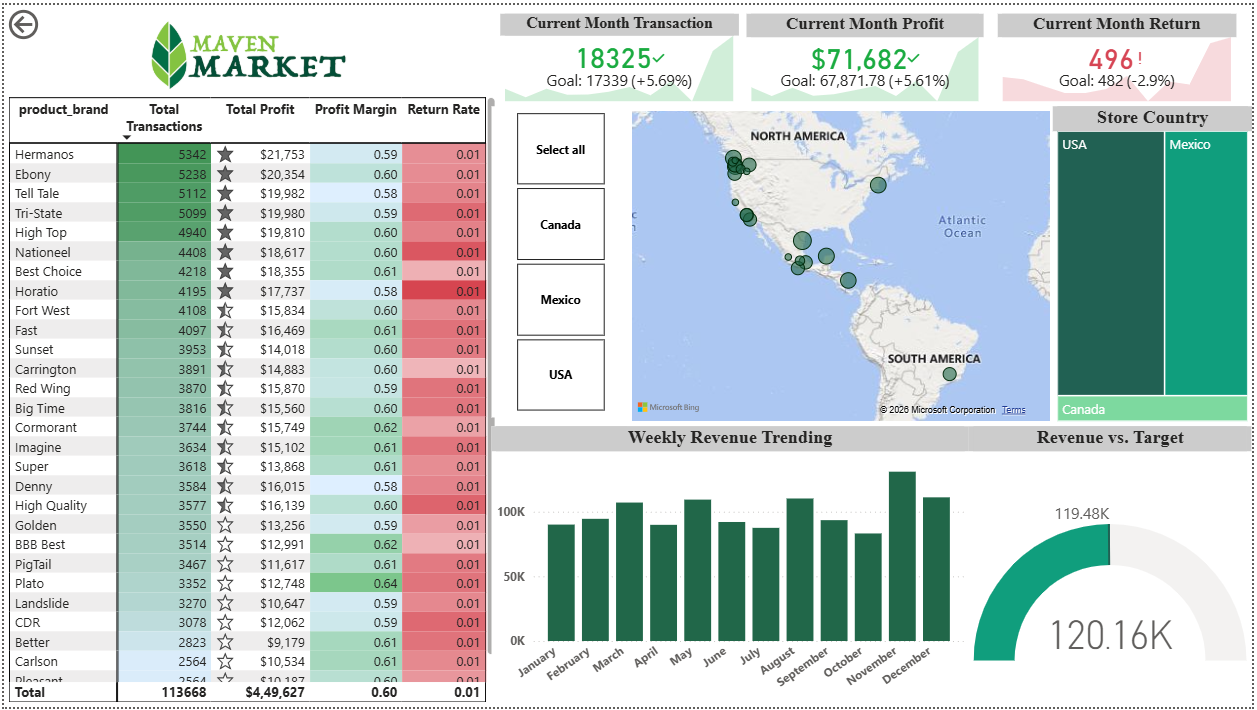

This screenshot's page, from the dashboard's own definition file:
{"tool":"powerbi","page":{"name":"Dashboard","canvas":[1280,720],"ordinal":5},"visuals":[{"type":"pivotTable","fields":{"Rows":["MavenMarket_Products.product_brand"],"Values":["MavenMarket Transactions.Total Transactions","MavenMarket Transactions.Total Profit","MavenMarket Transactions.Profit Margin","MavenMarket Transactions.Return Rate"]},"box":[0,89.7,509,630.8],"z":0},{"type":"kpi","title":"Current Month Transaction","fields":{"Indicator":["MavenMarket Transactions.Total Transactions"],"TrendLine":["MavenMarket_Calendar.Start of Month"],"Goal":["MavenMarket Transactions.Last Month Transactions"]},"box":[508.6,8.6,244.4,95.1],"z":1000},{"type":"kpi","title":"Current Month Profit","fields":{"Indicator":["MavenMarket Transactions.Total Profit"],"Goal":["MavenMarket Transactions.Last Month Profit"],"TrendLine":["MavenMarket_Calendar.Start of Month"]},"box":[761.7,8.6,243.2,95.1],"z":2000},{"type":"kpi","title":"Current Month Return","fields":{"Goal":["MavenMarket Transactions.Last Month Returns"],"TrendLine":["MavenMarket_Calendar.Start of Month"],"Indicator":["MavenMarket_Returns_1997-1998.Total Returns"]},"box":[1019.8,8.6,244.4,95.1],"z":3000},{"type":"map","fields":{"Category":["MavenMarket_Stores.store_city"],"Size":["MavenMarket Transactions.Total Transactions"]},"box":[639.5,103.7,438.3,328.4],"z":4000},{"type":"treemap","title":"Store Country","fields":{"Values":["MavenMarket Transactions.Total Transactions"],"Group":["MavenMarket_Stores.store_country","MavenMarket_Stores.store_city","MavenMarket_Stores.store_state"]},"box":[1075.6,103.8,205.1,328.2],"z":5000},{"type":"image","box":[0,11.1,500,79],"z":6000},{"type":"slicer","fields":{"Values":["MavenMarket_Stores.store_country"]},"box":[500,103.8,139.7,319.2],"z":7000},{"type":"actionButton","box":[0,0,100,40],"z":8000},{"type":"clusteredColumnChart","title":"Weekly Revenue Trending","fields":{"Y":["MavenMarket Transactions.Total Revenue"],"Category":["MavenMarket_Calendar.Start of Week.Variation.Date Hierarchy.Month"]},"box":[500,432.1,489.7,288.5],"z":9000},{"type":"gauge","title":"Revenue vs. Target","fields":{"Y":["MavenMarket Transactions.Total Revenue"],"TargetValue":["MavenMarket Transactions.Revenue Target"]},"box":[989.7,432.1,289.7,288.5],"z":10000}]}

Visuals, with their boxes in screenshot pixels (x1, y1, x2, y2), scaled from the page's 1280x720 canvas onto the 1257x710 screenshot:
pivotTable - MavenMarket_Products.product_brand x MavenMarket Transactions.Total Transactions: locate(0, 88, 500, 709)
"Current Month Transaction" kpi: locate(499, 8, 739, 102)
"Current Month Profit" kpi: locate(748, 8, 987, 102)
"Current Month Return" kpi: locate(1001, 8, 1241, 102)
map - MavenMarket_Stores.store_city x MavenMarket Transactions.Total Transactions: locate(628, 102, 1058, 426)
"Store Country" treemap: locate(1056, 102, 1256, 426)
image: locate(0, 11, 491, 89)
slicer - MavenMarket_Stores.store_country: locate(491, 102, 628, 417)
actionButton: locate(0, 0, 98, 39)
"Weekly Revenue Trending" clusteredColumnChart: locate(491, 426, 972, 709)
"Revenue vs. Target" gauge: locate(972, 426, 1256, 709)
